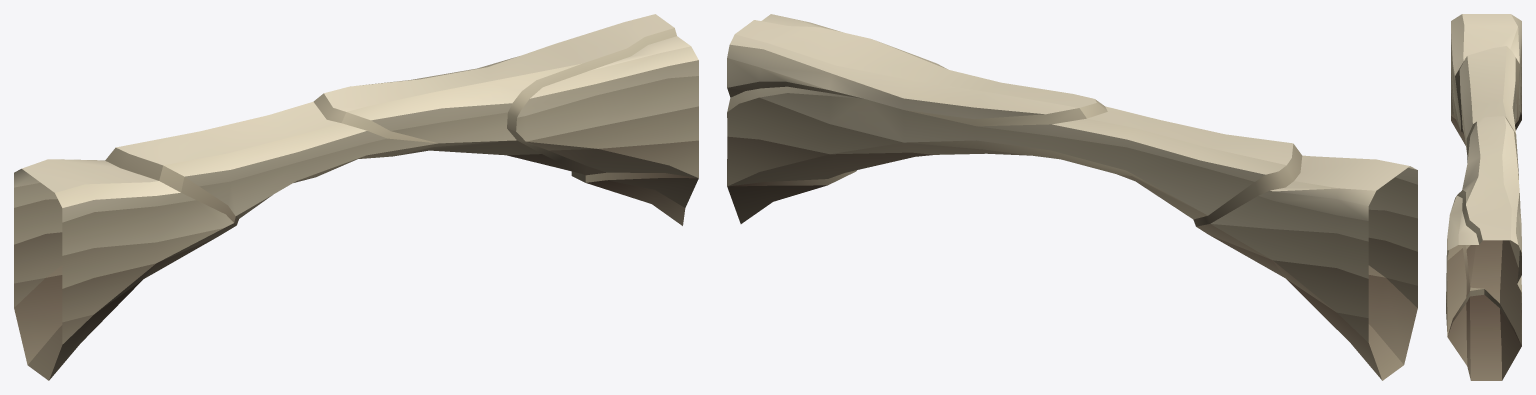
Rendered from Canyon_Overpass_1C.fbx.
The picture shows the model from 3 angles, left to right: view 1: azimuth 30°, elevation 25°; view 2: azimuth 150°, elevation 25°; view 3: azimuth 270°, elevation 25°; orthographic projection. The views are drawn at different scales.
Parts seen in each view (by area): view 1: Canyon_Overpass_1C; view 2: Canyon_Overpass_1C; view 3: Canyon_Overpass_1C.
Boxes of the visible parts, x1,y1,x2,y2 form: Canyon_Overpass_1C: (14,14,698,380); Canyon_Overpass_1C: (727,14,1417,380); Canyon_Overpass_1C: (1446,14,1521,380).
Bounding box in the file's own units: 40 × 11.95 × 5.68.
